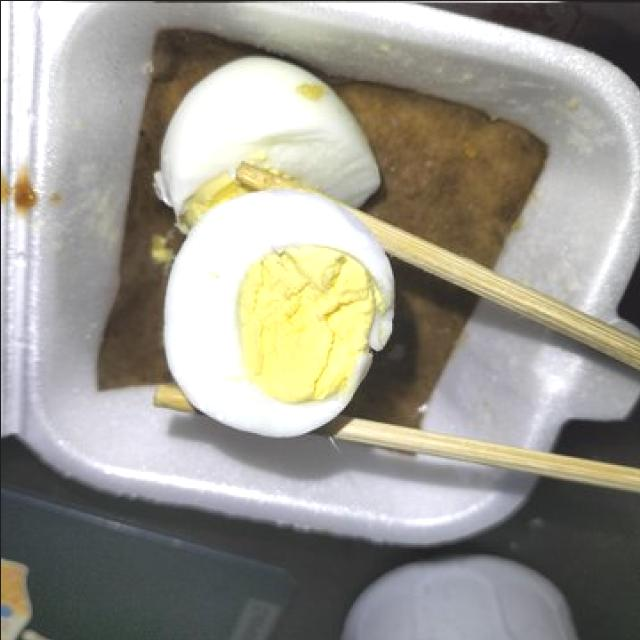telur rebus: (162, 185, 395, 436)
